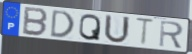B: (21, 6, 49, 38)
D: (49, 9, 76, 39)
Q: (78, 13, 102, 42)
R: (158, 20, 185, 50)
T: (134, 16, 156, 47)
U: (103, 13, 132, 45)
